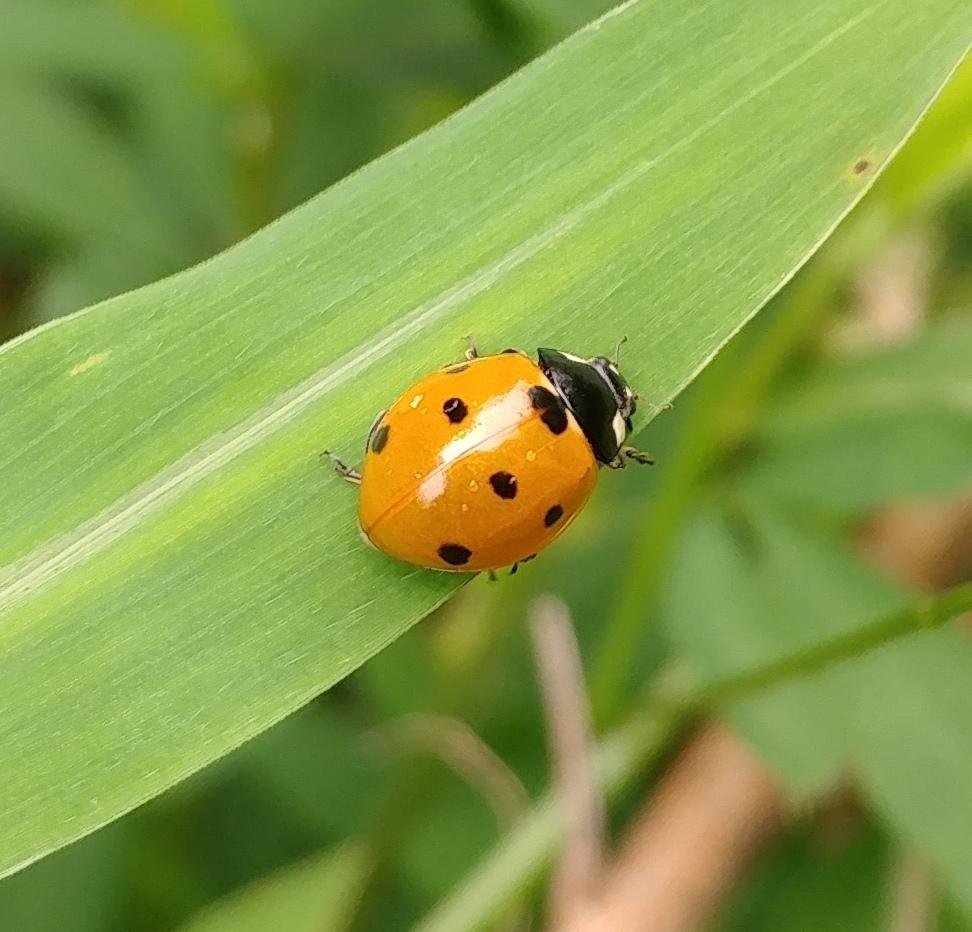ladybug: (319, 329, 664, 586)
